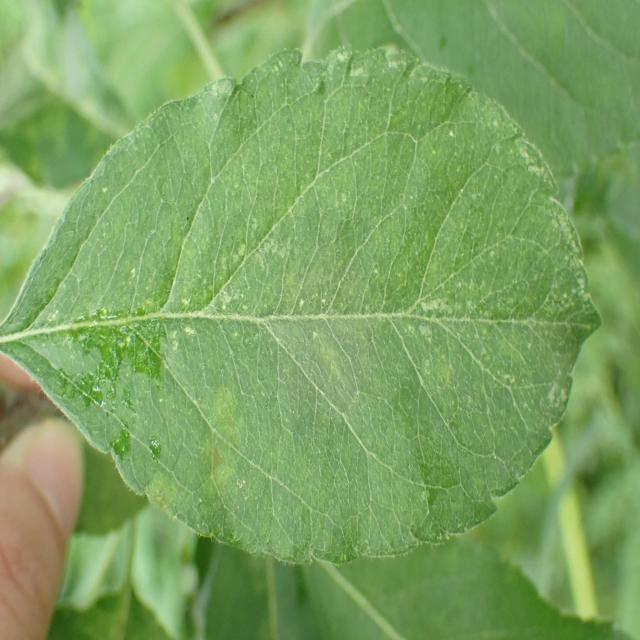scab: (56, 151, 585, 532)
